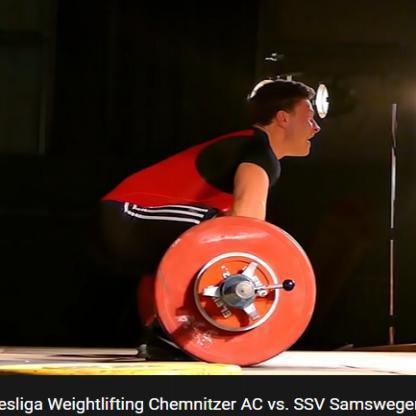barbell: (150, 212, 316, 365)
